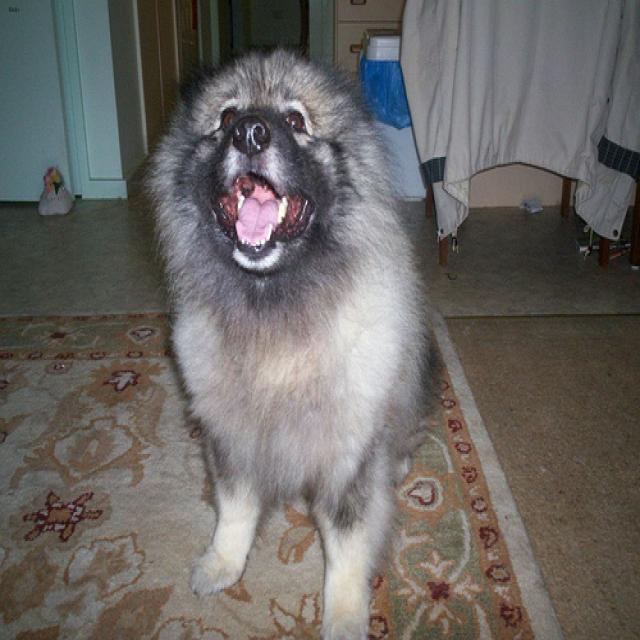dog-keeshond: (137, 38, 454, 637)
